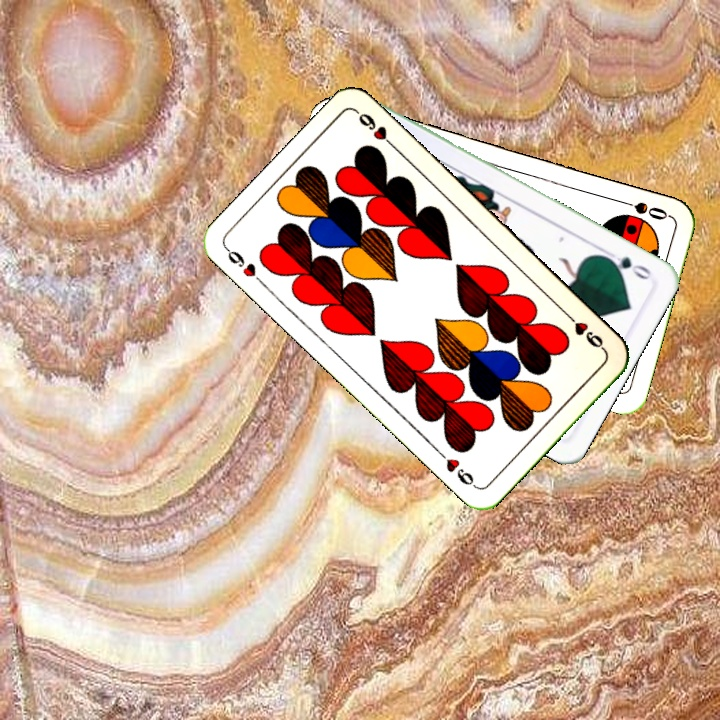GO: (598, 245, 654, 283)
H9: (561, 309, 608, 354), (222, 244, 269, 289)
SO: (613, 195, 671, 223)
